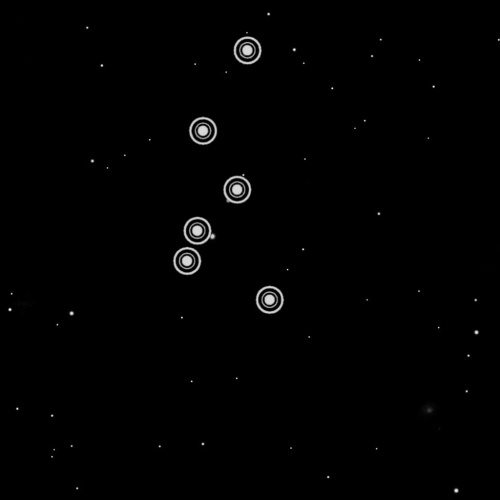cassiopeia: (169, 30, 290, 319)
